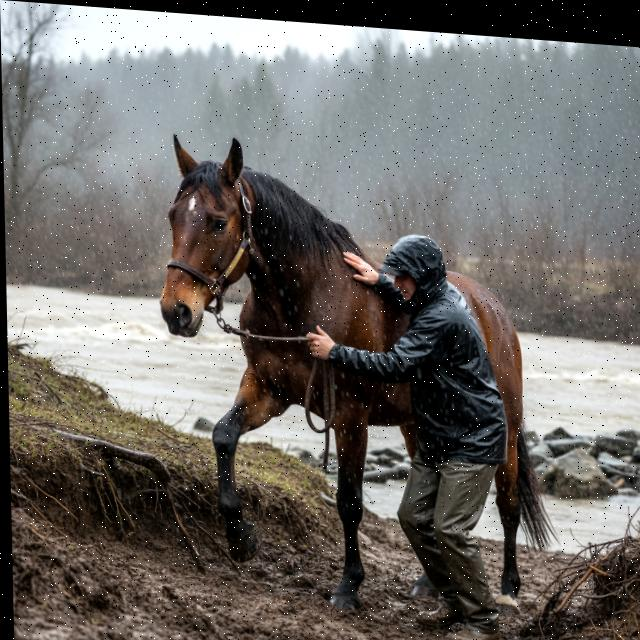civilian: (306, 205, 529, 640)
horse: (140, 112, 551, 634)
